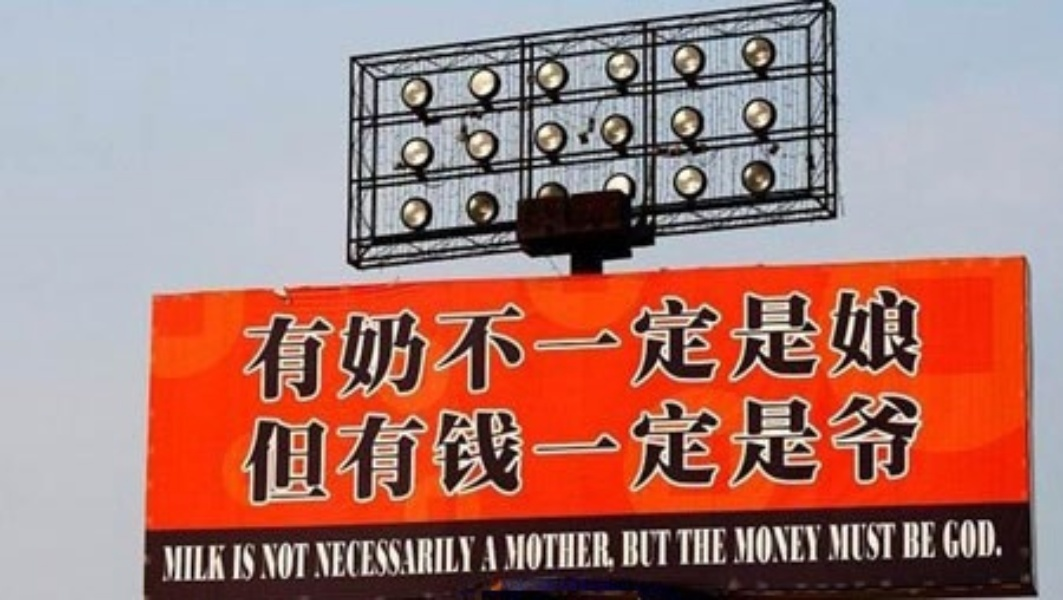text: (241, 286, 256, 404), (257, 286, 272, 404), (273, 286, 288, 404), (289, 286, 304, 404), (305, 286, 320, 404), (321, 286, 336, 404), (337, 286, 352, 404), (353, 286, 368, 404), (369, 286, 384, 404), (385, 286, 400, 404), (401, 286, 416, 404), (417, 286, 432, 404), (433, 286, 448, 404), (449, 286, 464, 404), (465, 286, 480, 404), (481, 286, 496, 404), (497, 286, 512, 404), (513, 286, 528, 404), (529, 286, 544, 404), (545, 286, 560, 404), (561, 286, 576, 404), (577, 286, 592, 404), (593, 286, 608, 404), (609, 286, 624, 404), (625, 286, 640, 404), (641, 286, 656, 404), (657, 286, 672, 404), (673, 286, 688, 404), (689, 286, 704, 404), (705, 286, 720, 404), (721, 286, 736, 404), (737, 286, 752, 404), (753, 286, 768, 404), (769, 286, 784, 404), (785, 286, 800, 404), (801, 286, 816, 404), (817, 286, 832, 404), (833, 286, 848, 404), (849, 286, 864, 404), (865, 286, 880, 404), (881, 286, 896, 404), (897, 286, 912, 404), (913, 286, 928, 404), (241, 388, 256, 506), (257, 388, 272, 506), (273, 388, 288, 506), (289, 388, 304, 506), (305, 388, 320, 506), (321, 388, 336, 506), (337, 388, 352, 506), (353, 388, 368, 506), (369, 388, 384, 506), (385, 388, 400, 506), (401, 388, 416, 506), (417, 388, 432, 506), (433, 388, 448, 506), (449, 388, 464, 506), (465, 388, 480, 506), (481, 388, 496, 506), (497, 388, 512, 506), (513, 388, 528, 506), (529, 388, 544, 506), (545, 388, 560, 506), (561, 388, 576, 506), (577, 388, 592, 506), (593, 388, 608, 506), (609, 388, 624, 506), (625, 388, 640, 506), (641, 388, 656, 506), (657, 388, 672, 506), (673, 388, 688, 506), (689, 388, 704, 506), (705, 388, 720, 506), (721, 388, 736, 506), (737, 388, 752, 506), (753, 388, 768, 506), (769, 388, 784, 506), (785, 388, 800, 506), (801, 388, 816, 506), (817, 388, 832, 506), (833, 388, 848, 506), (849, 388, 864, 506), (865, 388, 880, 506), (881, 388, 896, 506), (897, 388, 912, 506), (913, 388, 926, 506), (321, 534, 336, 579), (337, 534, 352, 579), (353, 534, 368, 579), (369, 534, 384, 579), (385, 534, 400, 579), (401, 534, 416, 579), (417, 534, 432, 579), (433, 534, 448, 579), (449, 534, 464, 579), (465, 534, 480, 579), (513, 530, 528, 575), (529, 530, 544, 575), (545, 530, 560, 575), (561, 530, 576, 575), (577, 530, 592, 575), (593, 530, 608, 575), (161, 541, 176, 584), (177, 541, 192, 584), (193, 541, 208, 584), (209, 541, 224, 584), (833, 520, 848, 563), (849, 520, 864, 563), (865, 520, 880, 563), (881, 520, 896, 563), (737, 523, 752, 565), (753, 523, 768, 565), (769, 523, 784, 565), (785, 523, 800, 565), (801, 523, 816, 565), (689, 527, 704, 567), (705, 527, 720, 567), (913, 520, 928, 560), (945, 518, 960, 558), (961, 518, 976, 558), (977, 518, 992, 558), (241, 544, 256, 582), (273, 541, 288, 579), (289, 541, 304, 579), (481, 534, 496, 572), (625, 530, 640, 567), (641, 530, 656, 567), (657, 530, 671, 567), (676, 527, 688, 567), (260, 541, 272, 579), (901, 520, 912, 560), (993, 518, 1004, 558), (504, 530, 512, 575), (609, 530, 617, 575), (929, 520, 938, 560), (237, 286, 240, 404), (237, 388, 240, 506), (232, 544, 240, 582), (721, 527, 728, 567), (305, 541, 312, 579), (817, 523, 823, 565), (929, 286, 931, 404), (315, 534, 320, 579), (827, 520, 832, 563), (733, 523, 736, 565), (225, 541, 227, 584), (497, 534, 499, 572), (622, 530, 624, 567), (943, 518, 944, 558)
